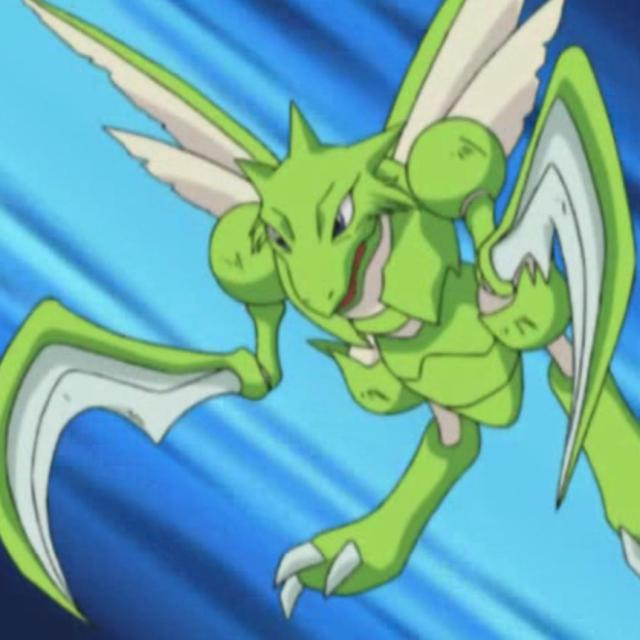Scyther: (35, 0, 640, 620)
